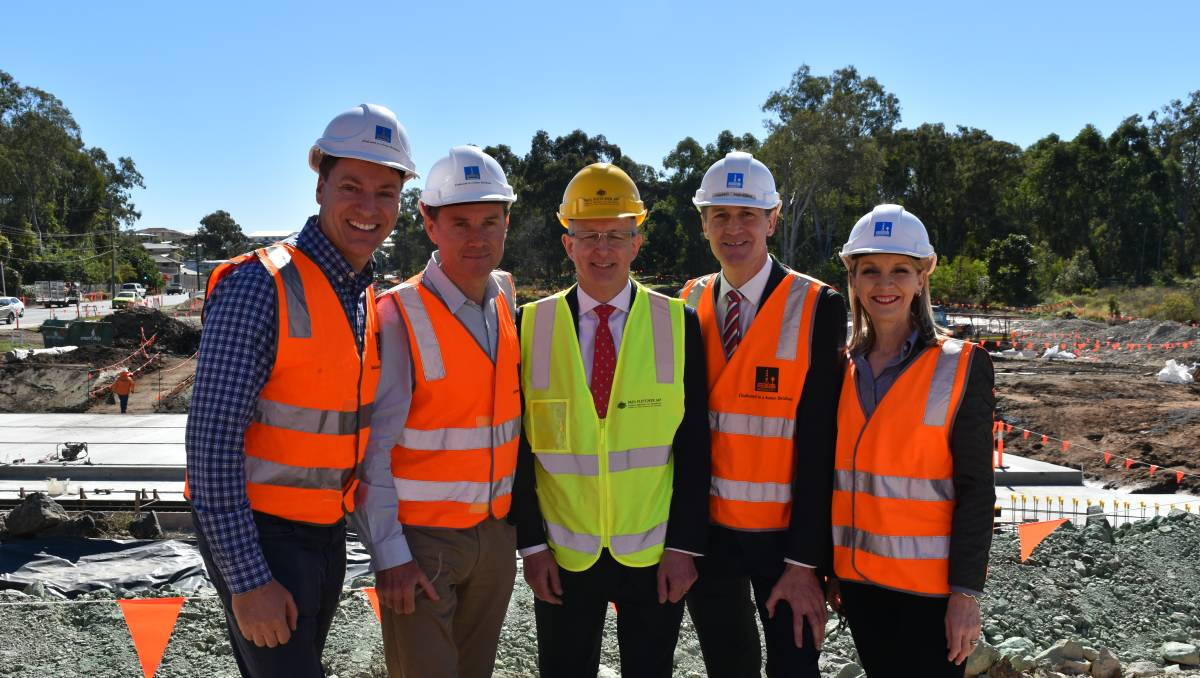Helmet: (301, 97, 421, 268), (543, 155, 668, 302), (836, 199, 952, 347), (419, 140, 518, 290), (688, 150, 794, 276)
Reflective vest: (182, 237, 388, 529), (514, 273, 688, 578), (680, 267, 842, 537), (826, 331, 985, 601), (366, 264, 521, 536)
